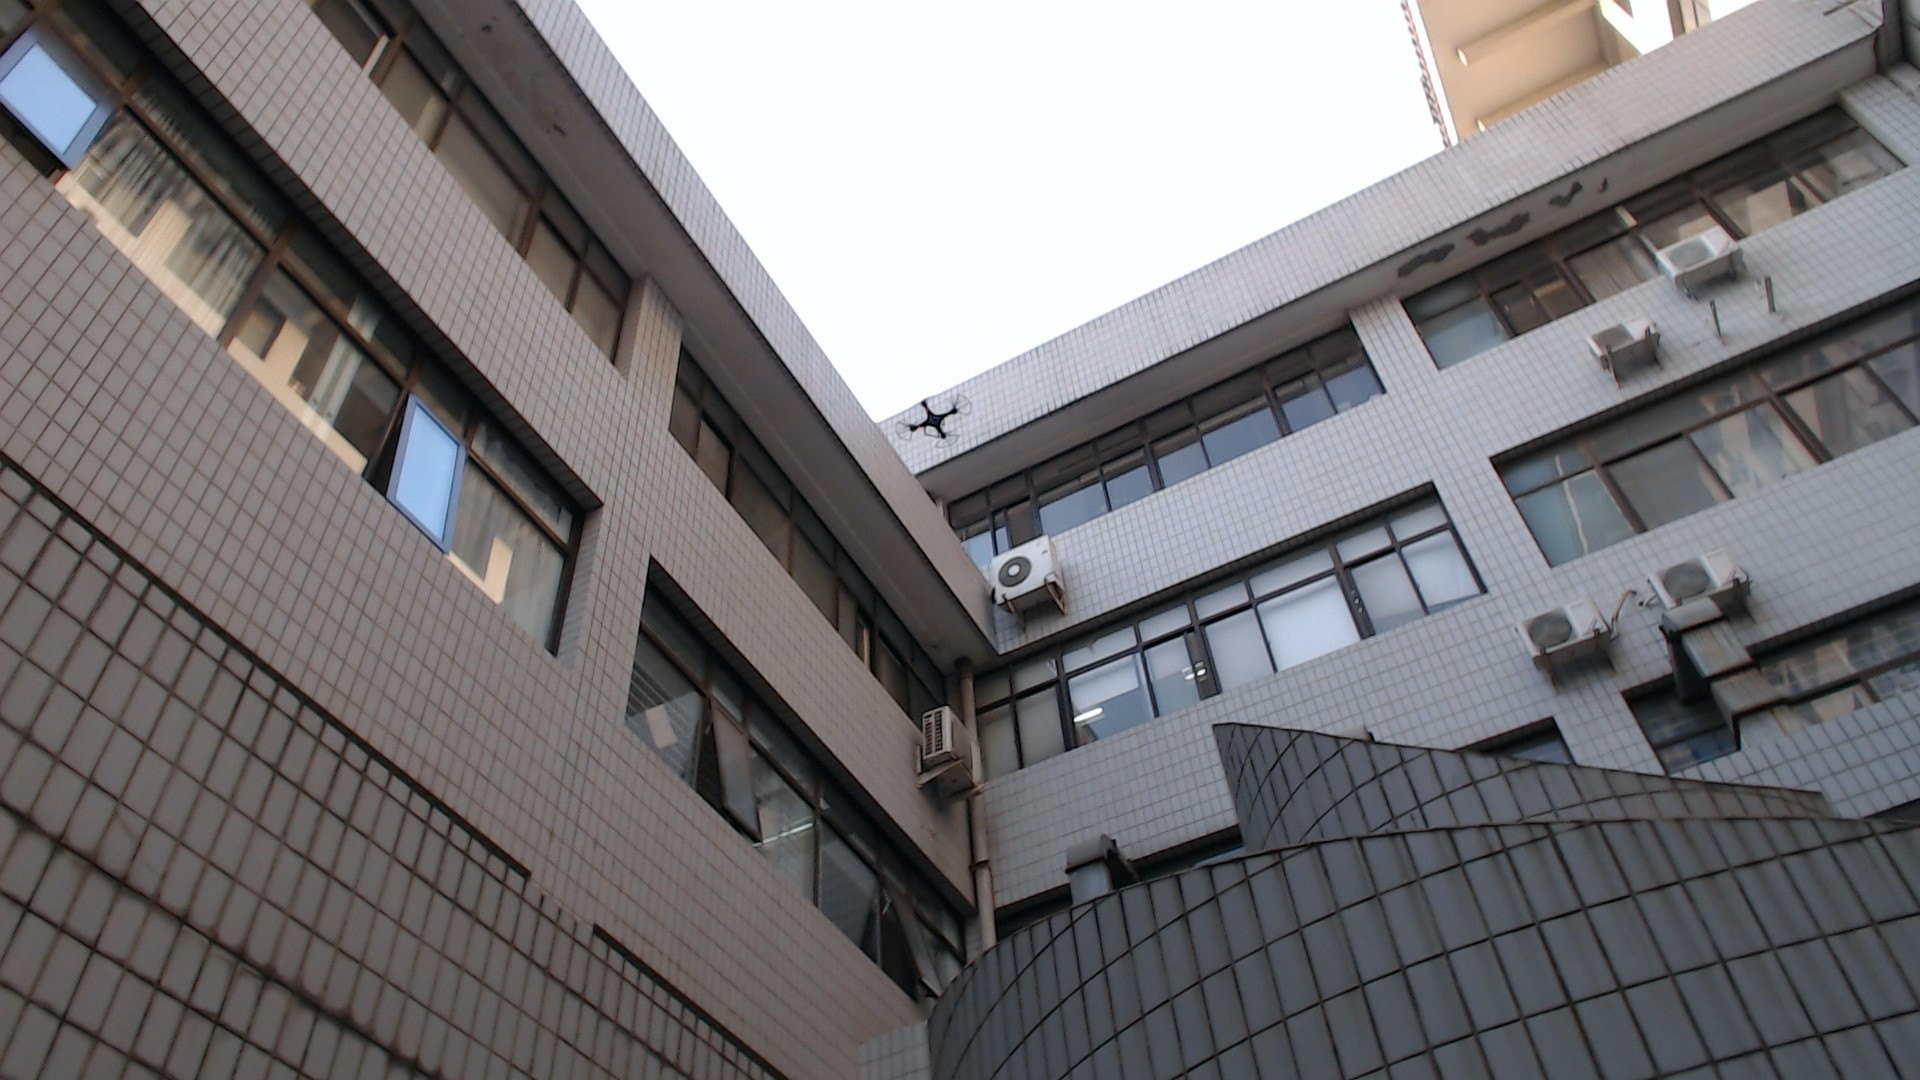drone: (891, 386, 972, 451)
